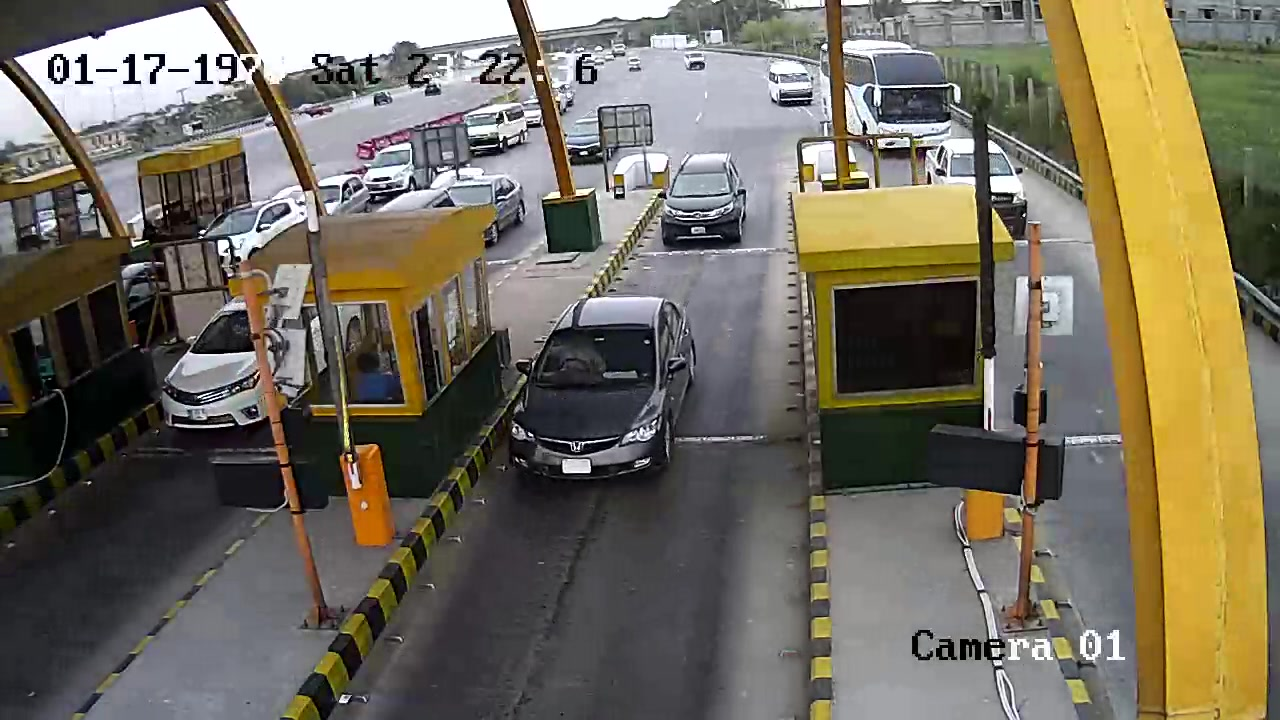F1: (505, 289, 716, 490)
